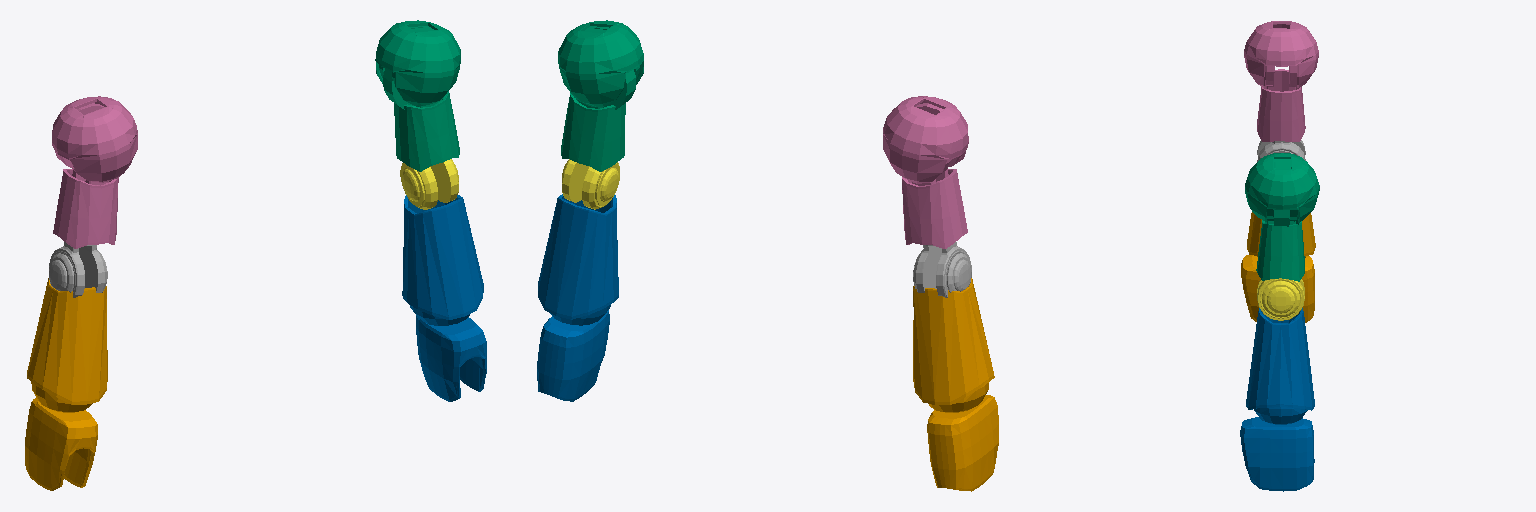
URDF robot description (robot1):
<?xml version="1.0"?>
<!-- created with Phobos 1.0.1 "Capricious Choutengan" -->
  <robot name="robot1">

    <link name="Body">
      <inertial>
        <origin xyz="0 0 0" rpy="0 0 0"/>
        <mass value="0.01"/>
        <inertia ixx="0.001" ixy="0" ixz="0" iyy="0.001" iyz="0" izz="0.001"/>
      </inertial>
      <visual name="Body">
        <origin xyz="0 0 0" rpy="0 0 0"/>
        <geometry>
          <mesh filename="package://robot1_pkg/meshes/stl/Body.stl" scale="0.05 0.05 0.05"/>
        </geometry>
      </visual>
      <collision name="Body.000">
        <origin xyz="0 0 0" rpy="0 0 0"/>
        <geometry>
          <mesh filename="package://robot1_pkg/meshes/stl/Body.001.stl" scale="1.0 1.0 1.0"/>
        </geometry>
      </collision>
    </link>

    <link name="Left hand 0">
      <inertial>
        <origin xyz="0 0 0" rpy="0 0 0"/>
        <mass value="0.001"/>
        <inertia ixx="0.001" ixy="0" ixz="0" iyy="0.001" iyz="0" izz="0.001"/>
      </inertial>
      <visual name="Left hand 0">
        <origin xyz="0 0 0" rpy="0 0 0"/>
        <geometry>
          <mesh filename="package://robot1_pkg/meshes/stl/Left hand 0.stl" scale="0.46 0.46 0.1"/>
        </geometry>
      </visual>
      <collision name="Left hand 0">
        <origin xyz="0 0 0" rpy="0 0 0"/>
        <geometry>
          <cylinder radius="0.46" length="0.2"/>
        </geometry>
      </collision>
    </link>

    <link name="Left hand 1">
      <inertial>
        <origin xyz="0 0 0" rpy="0 0 0"/>
        <mass value="0.001"/>
        <inertia ixx="0.001" ixy="0" ixz="0" iyy="0.001" iyz="0" izz="0.001"/>
      </inertial>
      <visual name="Left hand 1">
        <origin xyz="0 0 0" rpy="-1.5708 0 0"/>
        <geometry>
          <mesh filename="package://robot1_pkg/meshes/stl/Left hand 1.stl" scale="0.05 0.05 0.05"/>
        </geometry>
      </visual>
      <collision name="Left hand 1.000">
        <origin xyz="0 0 0" rpy="-1.5708 0 0"/>
        <geometry>
          <mesh filename="package://robot1_pkg/meshes/stl/Left hand 1.001.stl" scale="1.0 1.0 1.0"/>
        </geometry>
      </collision>
    </link>

    <link name="Left hand 2">
      <inertial>
        <origin xyz="0 0 0" rpy="0 0 0"/>
        <mass value="0.001"/>
        <inertia ixx="0.001" ixy="0" ixz="0" iyy="0.001" iyz="0" izz="0.001"/>
      </inertial>
      <visual name="Left hand 2">
        <origin xyz="0 0 0" rpy="0 0 0"/>
        <geometry>
          <mesh filename="package://robot1_pkg/meshes/stl/Left hand 2.stl" scale="0.05 0.05 0.05"/>
        </geometry>
      </visual>
      <collision name="Left hand 2.000">
        <origin xyz="0 0 0" rpy="0 0 0"/>
        <geometry>
          <mesh filename="package://robot1_pkg/meshes/stl/Left hand 2.001.stl" scale="1.0 1.0 1.0"/>
        </geometry>
      </collision>
    </link>

    <link name="Left hand 3">
      <inertial>
        <origin xyz="0 0 0" rpy="0 0 0"/>
        <mass value="0.001"/>
        <inertia ixx="0.001" ixy="0" ixz="0" iyy="0.001" iyz="0" izz="0.001"/>
      </inertial>
      <visual name="Left hand 3">
        <origin xyz="0 0 0" rpy="0 -1.5708 0"/>
        <geometry>
          <mesh filename="package://robot1_pkg/meshes/stl/Left hand 3.stl" scale="0.05 0.05 0.05"/>
        </geometry>
      </visual>
      <collision name="Left hand 3.000">
        <origin xyz="0 0 0" rpy="0 -1.5708 0"/>
        <geometry>
          <mesh filename="package://robot1_pkg/meshes/stl/Left hand 3.001.stl" scale="1.0 1.0 1.0"/>
        </geometry>
      </collision>
    </link>

    <link name="Right hand 0">
      <inertial>
        <origin xyz="0 0 0" rpy="0 0 0"/>
        <mass value="0.001"/>
        <inertia ixx="0.001" ixy="0" ixz="0" iyy="0.001" iyz="0" izz="0.001"/>
      </inertial>
      <visual name="Right hand 0">
        <origin xyz="0 0 0" rpy="0 0 0"/>
        <geometry>
          <mesh filename="package://robot1_pkg/meshes/stl/Right hand 0.stl" scale="0.46 0.46 0.1"/>
        </geometry>
      </visual>
      <collision name="Right hand 0">
        <origin xyz="0 0 0" rpy="0 0 0"/>
        <geometry>
          <cylinder radius="0.46" length="0.2"/>
        </geometry>
      </collision>
    </link>

    <link name="Right hand 1">
      <inertial>
        <origin xyz="0 0 0" rpy="0 0 0"/>
        <mass value="0.001"/>
        <inertia ixx="0.001" ixy="0" ixz="0" iyy="0.001" iyz="0" izz="0.001"/>
      </inertial>
      <visual name="Right hand 1">
        <origin xyz="0 0 0" rpy="-1.5708 0 0"/>
        <geometry>
          <mesh filename="package://robot1_pkg/meshes/stl/Right hand 1.stl" scale="0.05 0.05 0.05"/>
        </geometry>
      </visual>
      <collision name="Right hand 1.000">
        <origin xyz="0 0 0" rpy="-1.5708 0 0"/>
        <geometry>
          <mesh filename="package://robot1_pkg/meshes/stl/Right hand 1.001.stl" scale="1.0 1.0 1.0"/>
        </geometry>
      </collision>
    </link>

    <link name="Right hand 2">
      <inertial>
        <origin xyz="0 0 0" rpy="0 0 0"/>
        <mass value="0.001"/>
        <inertia ixx="0.001" ixy="0" ixz="0" iyy="0.001" iyz="0" izz="0.001"/>
      </inertial>
      <visual name="Right hand 2">
        <origin xyz="-0.04981 -0.0023 -0.15785" rpy="0 0 0"/>
        <geometry>
          <mesh filename="package://robot1_pkg/meshes/stl/Right hand 2.stl" scale="0.05 0.05 0.05"/>
        </geometry>
      </visual>
      <collision name="Right hand 2.000">
        <origin xyz="-0.04981 -0.0023 -0.15785" rpy="0 0 0"/>
        <geometry>
          <mesh filename="package://robot1_pkg/meshes/stl/Right hand 2.001.stl" scale="1.0 1.0 1.0"/>
        </geometry>
      </collision>
    </link>

    <link name="Right hand 3">
      <inertial>
        <origin xyz="0 0 0" rpy="0 0 0"/>
        <mass value="0.001"/>
        <inertia ixx="0.001" ixy="0" ixz="0" iyy="0.001" iyz="0" izz="0.001"/>
      </inertial>
      <visual name="Right hand 3">
        <origin xyz="0 0 0" rpy="0 1.5708 0"/>
        <geometry>
          <mesh filename="package://robot1_pkg/meshes/stl/Right hand 3.stl" scale="0.05 0.05 0.05"/>
        </geometry>
      </visual>
      <collision name="Right hand 3.000">
        <origin xyz="0 0 0" rpy="0 1.5708 0"/>
        <geometry>
          <mesh filename="package://robot1_pkg/meshes/stl/Right hand 3.001.stl" scale="1.0 1.0 1.0"/>
        </geometry>
      </collision>
    </link>

    <joint name="L0" type="revolute">
      <origin xyz="1.97808 1.70457 1.42065" rpy="0 1.5708 0"/>
      <parent link="Body"/>
      <child link="Left hand 0"/>
      <axis xyz="0 0 1.0"/>
      <limit lower="-1.57" upper="1.57" effort="0" velocity="0"/>
    </joint>

    <joint name="L1" type="revolute">
      <origin xyz="-0.03152 -0.50646 0.47768" rpy="1.6068 -1.5708 0"/>
      <parent link="Left hand 0"/>
      <child link="Left hand 1"/>
      <axis xyz="0 0 1.0"/>
      <limit lower="-1.4" upper="1.4" effort="0" velocity="0"/>
    </joint>

    <joint name="L2" type="revolute">
      <origin xyz="0.08791 -0.9997 -0.4857" rpy="-1.6068 0 0"/>
      <parent link="Left hand 1"/>
      <child link="Left hand 2"/>
      <axis xyz="0 0 1.0"/>
      <limit lower="-1.57" upper="1.57" effort="0" velocity="0"/>
    </joint>

    <joint name="L3" type="revolute">
      <origin xyz="0.04748 -0.04388 -0.5625" rpy="0 1.5708 0"/>
      <parent link="Left hand 2"/>
      <child link="Left hand 3"/>
      <axis xyz="0 0 1.0"/>
      <limit lower="-1.57" upper="1.57" effort="0" velocity="0"/>
    </joint>

    <joint name="R0" type="revolute">
      <origin xyz="-1.52909 1.70457 1.42065" rpy="0 1.5708 0"/>
      <parent link="Body"/>
      <child link="Right hand 0"/>
      <axis xyz="0 0 1.0"/>
      <limit lower="-1.57" upper="1.57" effort="0" velocity="0"/>
    </joint>

    <joint name="R1" type="revolute">
      <origin xyz="-0.09729 -0.51267 -0.43834" rpy="1.5708 -1.5708 0"/>
      <parent link="Right hand 0"/>
      <child link="Right hand 1"/>
      <axis xyz="0 0 1.0"/>
      <limit lower="-1.4" upper="1.4" effort="0" velocity="0"/>
    </joint>

    <joint name="R2" type="revolute">
      <origin xyz="-0.09425 -1.01818 -0.52256" rpy="-1.5708 0 0"/>
      <parent link="Right hand 1"/>
      <child link="Right hand 2"/>
      <axis xyz="0 0 1.0"/>
      <limit lower="-1.57" upper="1.57" effort="0" velocity="0"/>
    </joint>

    <joint name="R3" type="revolute">
      <origin xyz="-0.36048 -0.00781 -0.52957" rpy="0 -1.5708 0"/>
      <parent link="Right hand 2"/>
      <child link="Right hand 3"/>
      <axis xyz="0 0 1.0"/>
      <limit lower="-1.57" upper="1.57" effort="0" velocity="0"/>
    </joint>

  </robot>

--- Facts derived from the render (not from the file) ---
Views: 3 orthographic renders of the robot side by side, from view 1: azimuth 30°, elevation 25°; view 2: azimuth 150°, elevation 25°; view 3: azimuth 270°, elevation 25°.
Robot: robot1 — 9 links, 8 joints (8 revolute); root link Body; default pose: all joints at 0.
Links seen in each view (by area): view 1: Right hand 3, Left hand 3, Right hand 1, Left hand 1, Right hand 2, Left hand 2; view 2: Right hand 3, Left hand 3, Right hand 1, Left hand 1, Right hand 2, Left hand 2; view 3: Left hand 3, Left hand 1, Right hand 1, Right hand 3, Left hand 2, Right hand 2.
Link boxes in pixels (left/top/right/bottom): Right hand 3: left=25, top=278, right=107, bottom=490; Left hand 3: left=402, top=195, right=486, bottom=401; Right hand 1: left=52, top=96, right=137, bottom=248; Left hand 1: left=375, top=20, right=460, bottom=171; Right hand 2: left=49, top=242, right=107, bottom=297; Left hand 2: left=400, top=159, right=458, bottom=209; Right hand 3: left=913, top=278, right=998, bottom=491; Left hand 3: left=537, top=194, right=618, bottom=401; Right hand 1: left=883, top=96, right=968, bottom=248; Left hand 1: left=558, top=20, right=643, bottom=171; Right hand 2: left=913, top=242, right=971, bottom=297; Left hand 2: left=562, top=159, right=619, bottom=209; Left hand 3: left=1240, top=308, right=1314, bottom=491; Left hand 1: left=1245, top=153, right=1319, bottom=281; Right hand 1: left=1244, top=21, right=1318, bottom=141; Right hand 3: left=1241, top=212, right=1315, bottom=322; Left hand 2: left=1257, top=278, right=1304, bottom=320; Right hand 2: left=1257, top=140, right=1305, bottom=161.
Size in the robot's own frame: 6.03 by 1.11 by 4.85 metres.
Meshes: 9 distinct files referenced, 6 mesh visuals loaded (6 binary STL); not drawn: 3 (reference not matched to a file when rendering).